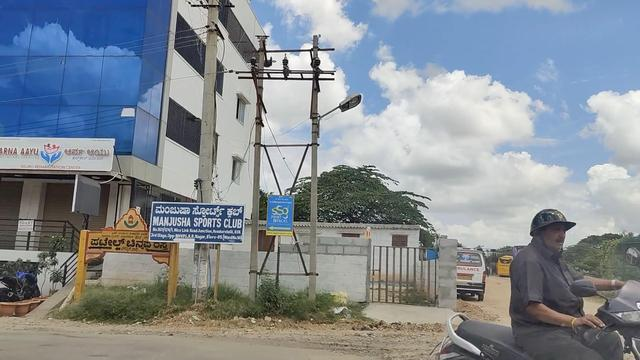LMV: (458, 249, 486, 298)
